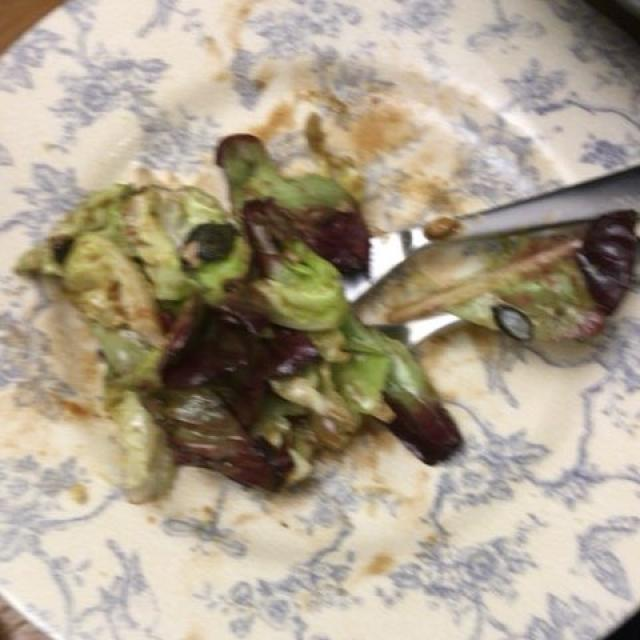pumpkin-seeds: (185, 224, 534, 334)
salad: (23, 146, 445, 495)
